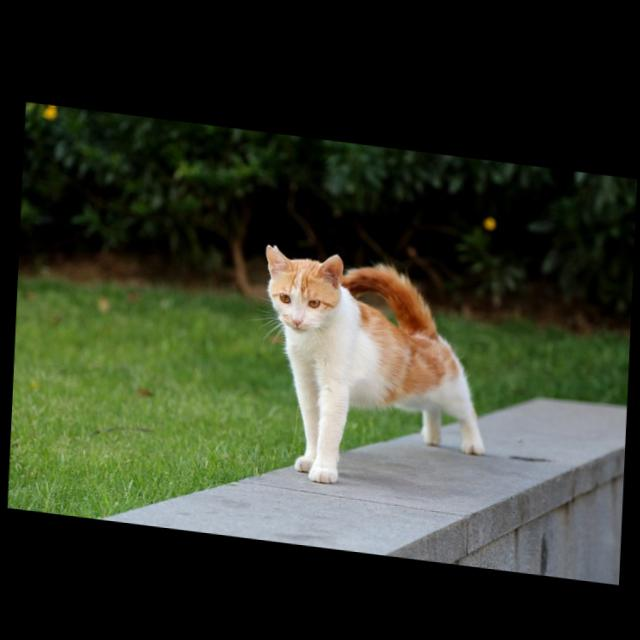animals: (264, 241, 487, 481)
